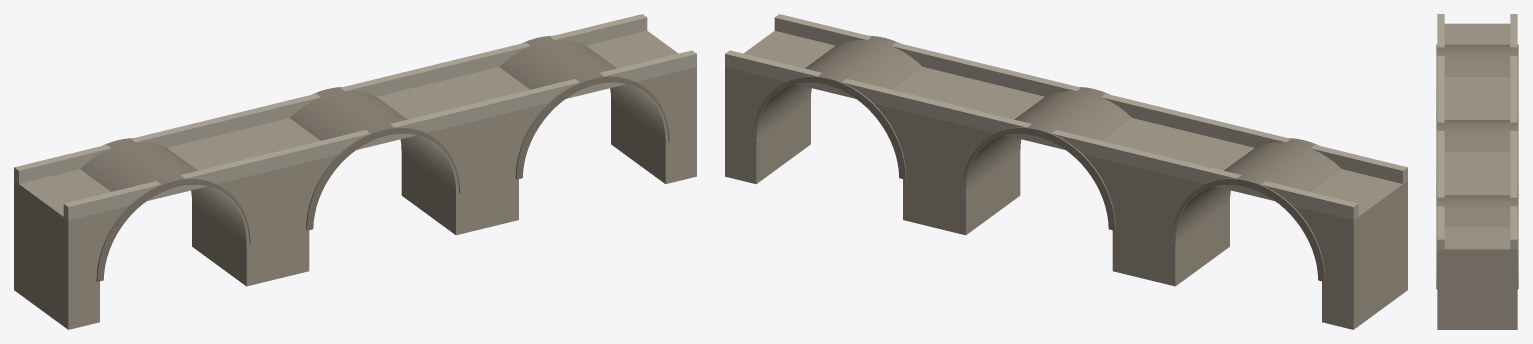
File: c01-bridge-arch-masonry.glb
3 views of the same model, side by side, from view 1: azimuth 30°, elevation 25°; view 2: azimuth 150°, elevation 25°; view 3: azimuth 270°, elevation 25° (orthographic). The views are drawn at different scales.
Parts seen in each view (by area): view 1: part0, part2, part1; view 2: part0, part2, part1; view 3: part0, part1, part2.
Boxes of the visible parts, box(x1,y1,x2,y2) form: part0: box(14, 30, 696, 329); part2: box(14, 14, 696, 220); part1: box(80, 35, 669, 281); part0: box(725, 30, 1407, 329); part2: box(725, 14, 1407, 220); part1: box(752, 35, 1341, 281); part0: box(1437, 23, 1517, 329); part1: box(1436, 44, 1518, 289); part2: box(1437, 14, 1517, 249).
Size of the model in its own units: 60000 by 11298 by 9258.
